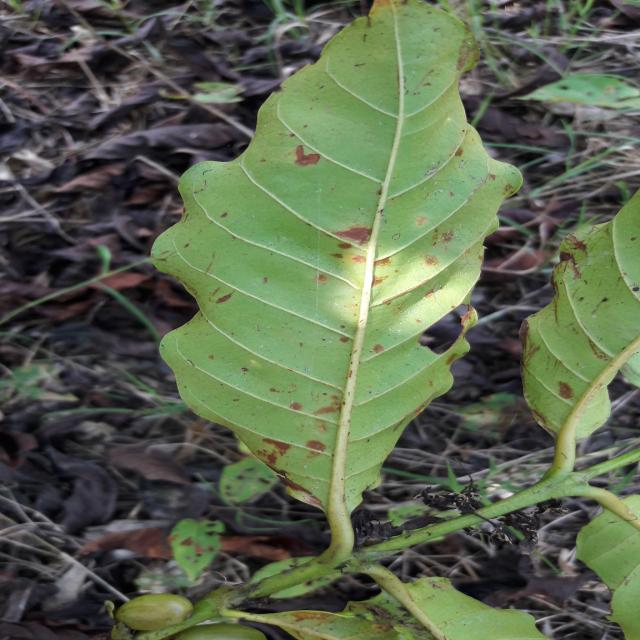Plaga-AranaRoja: (149, 0, 523, 562)
